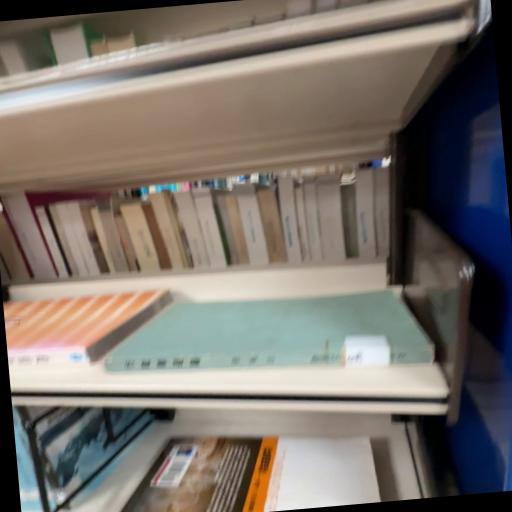flat: (104, 289, 434, 372), (120, 437, 375, 512), (3, 289, 172, 369)
